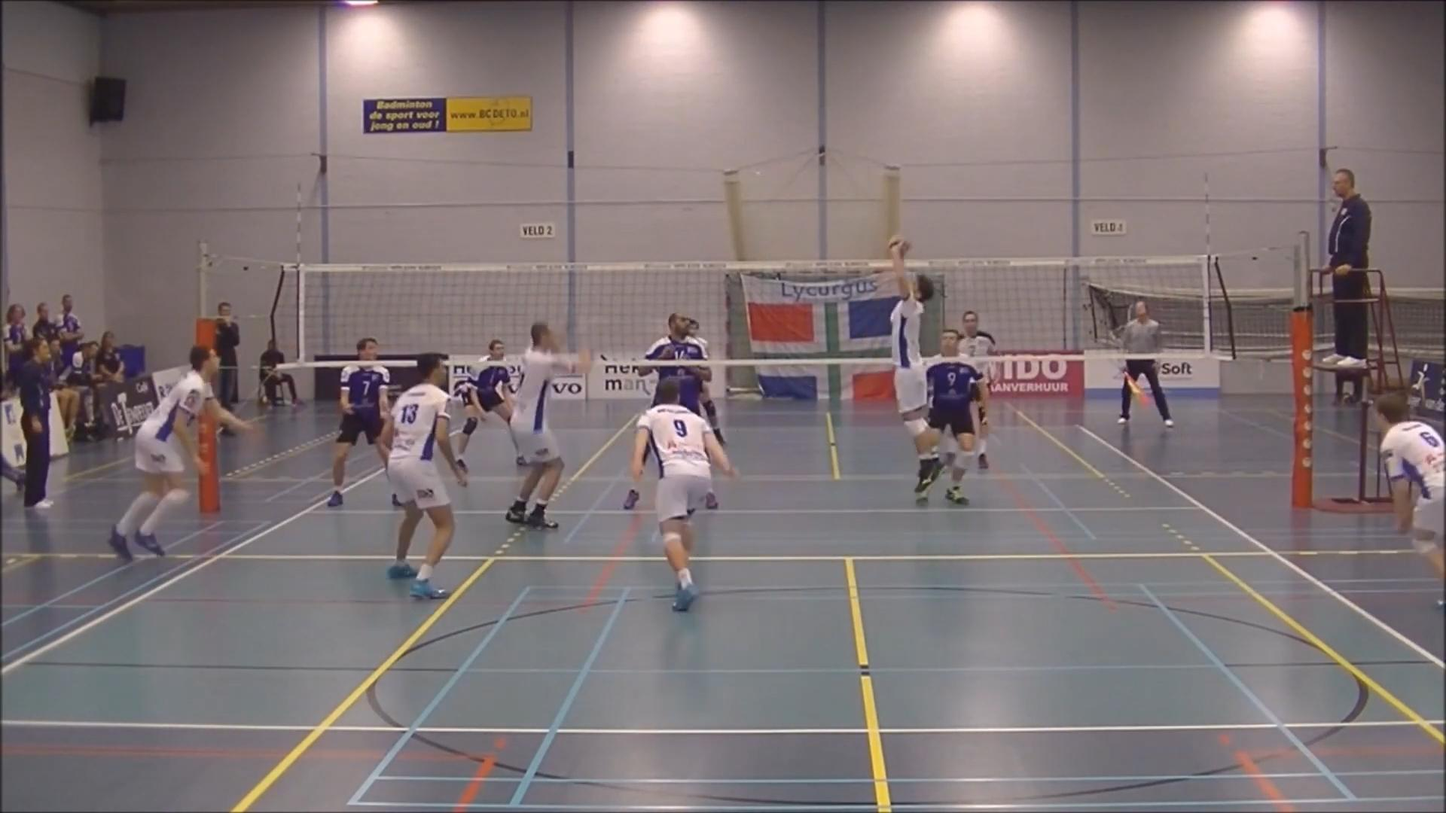alzata: (882, 236, 950, 497)
